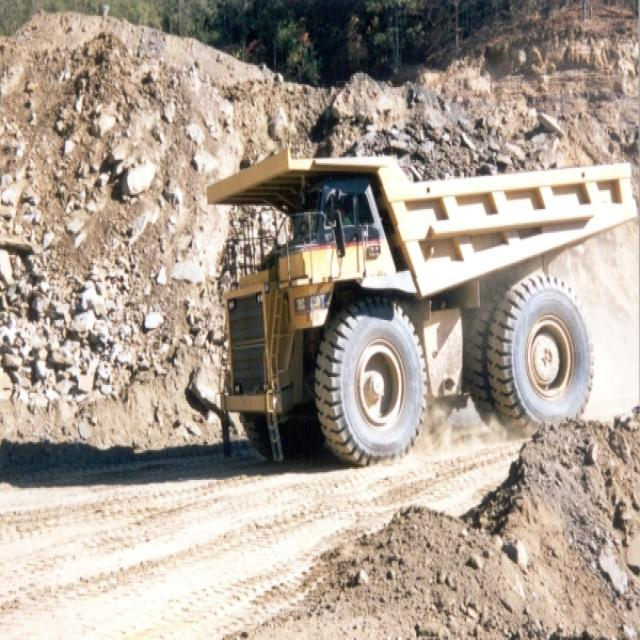dump_truck: (195, 126, 633, 482)
